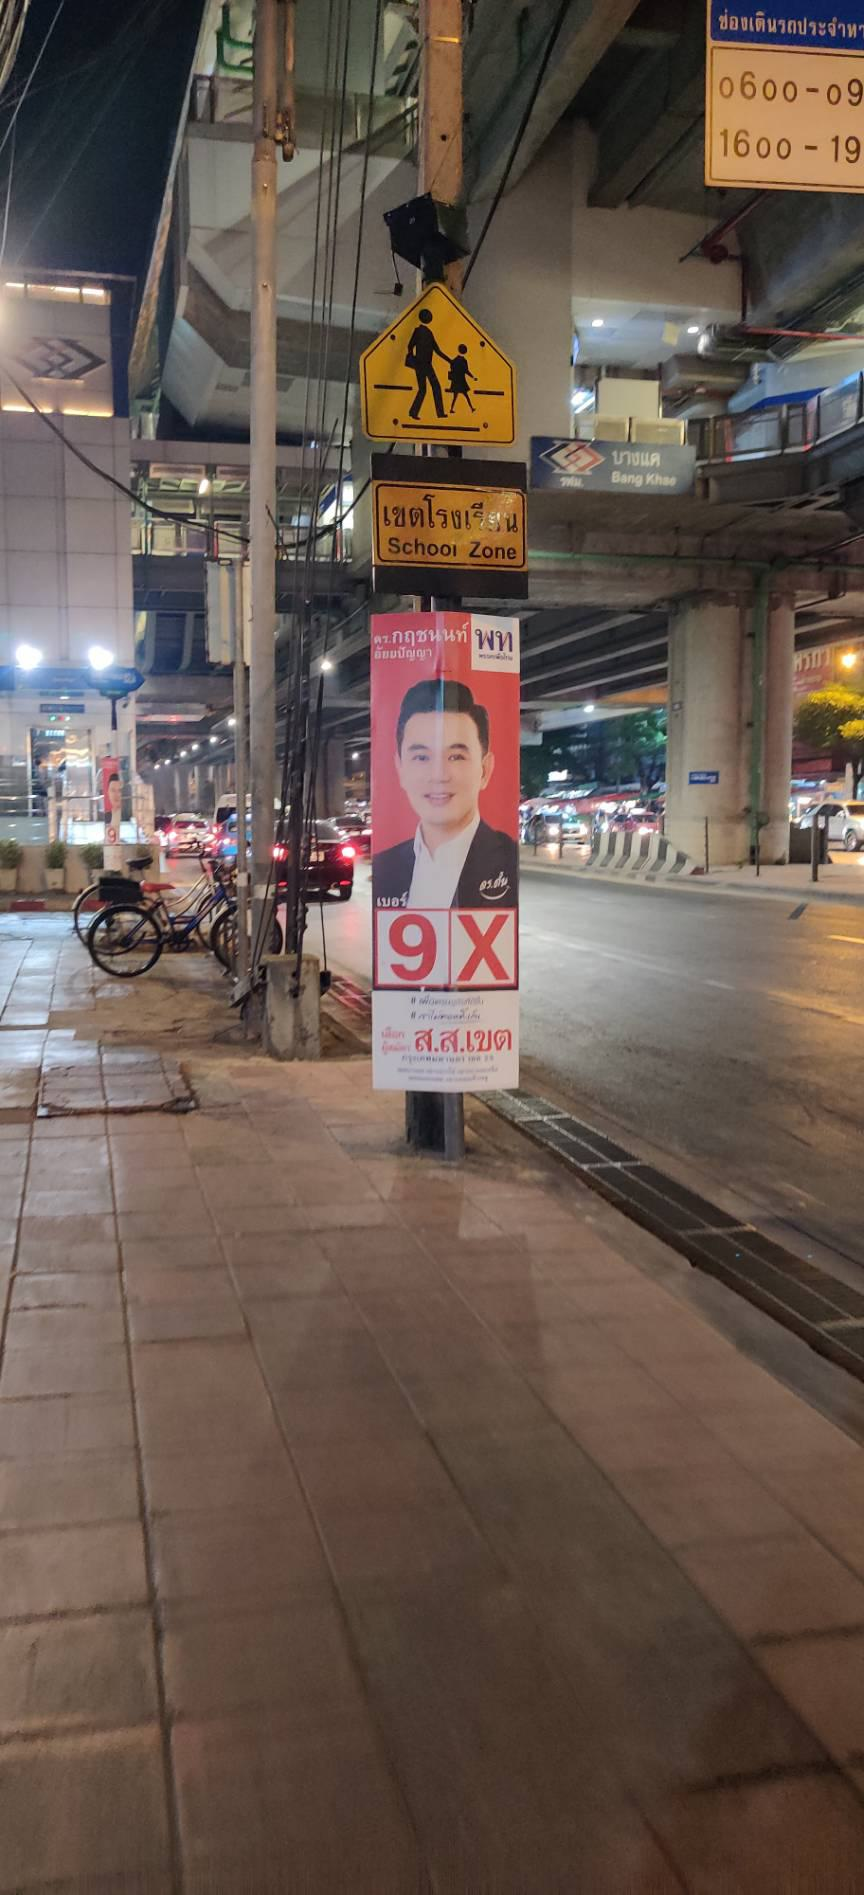Banner: (373, 605, 535, 1112)
